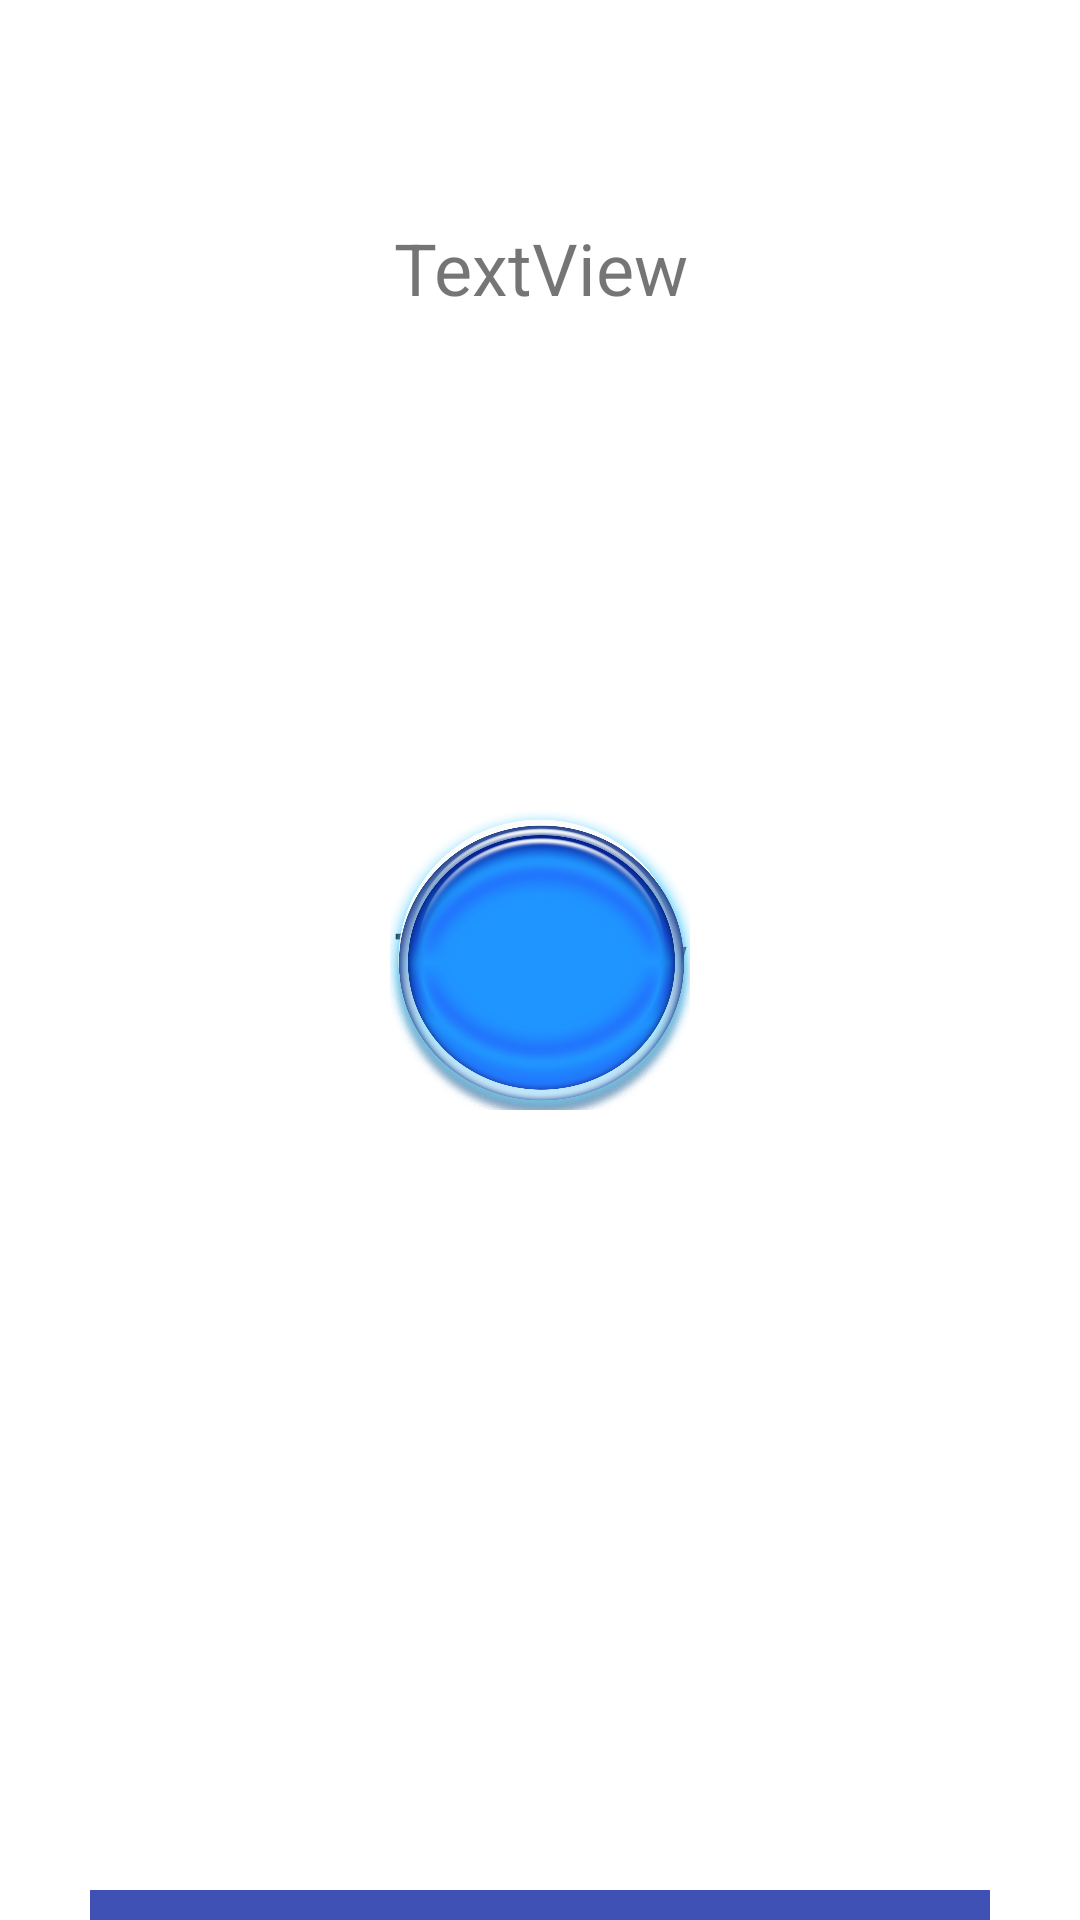

Icons on this 1080 x 1920 Android screen, each with its box as (x1=x1, y1=y1, x2=x2, y2=y2):
circleconcave: (x1=390, y1=816, x2=690, y2=1110)
